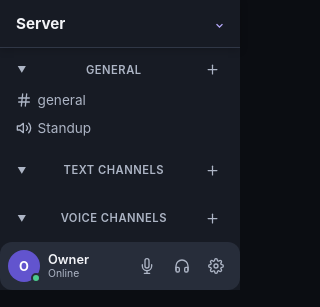
Test case: Channel and Category structural sidebar › CHSTRUCT-UI-01/02/03/07/13/14/28: renders backend Categories as non-navigable groups and gates structural menus
Expected: the text "general" is shown, [38,92,86,108]
Expected: the text "Standup" is shown, [38,120,91,136]
Click the button with test id "category-toggle-cat-general" at (105, 70), box [16,63,194,77]
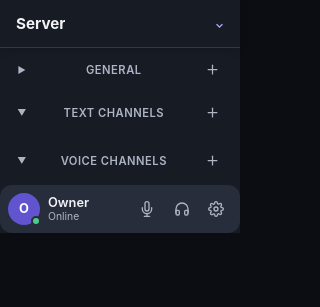
Right-click the text "GENERAL" at (114, 70), box [86,63,142,77]
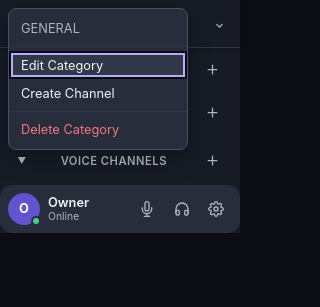
Result: the menu item "Edit Category" is shown at [9,51,187,79]
Result: the menu item "Create Channel" is shown at [9,79,187,107]
Result: the menu item "Delete Category" is shown at [9,116,187,144]
